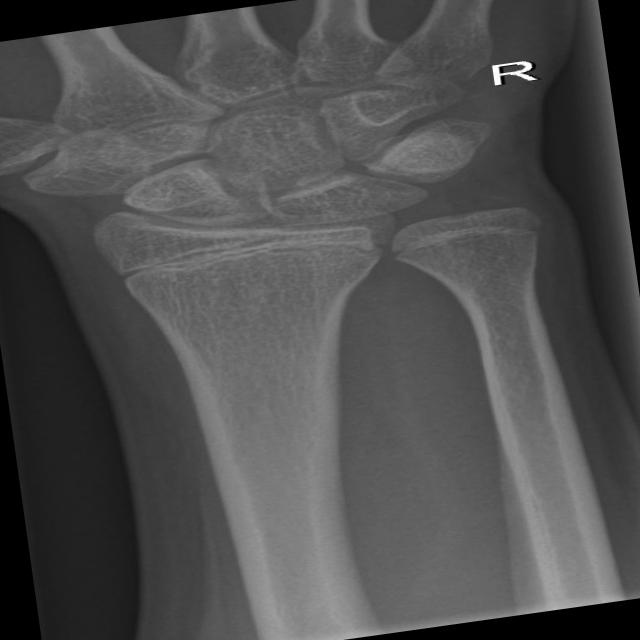fracture: (94, 221, 394, 305), (368, 203, 562, 271)
